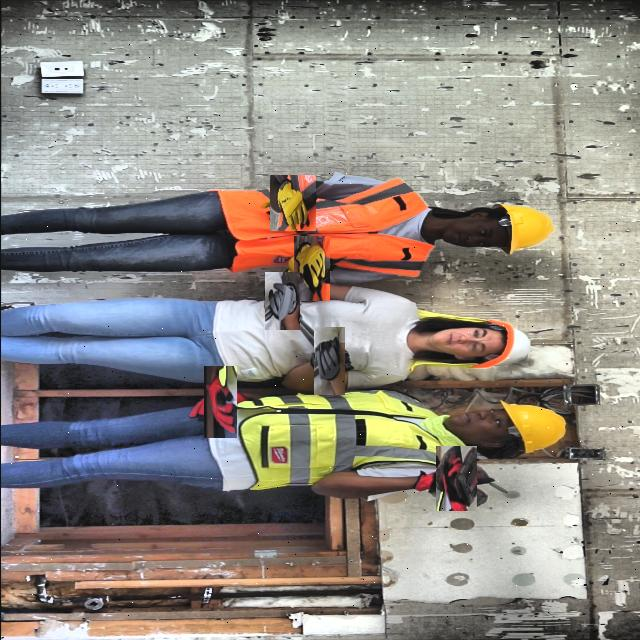gloved: (428, 452, 482, 506), (193, 376, 246, 428), (266, 178, 318, 230), (285, 243, 337, 293), (304, 336, 354, 386), (258, 277, 305, 324)
